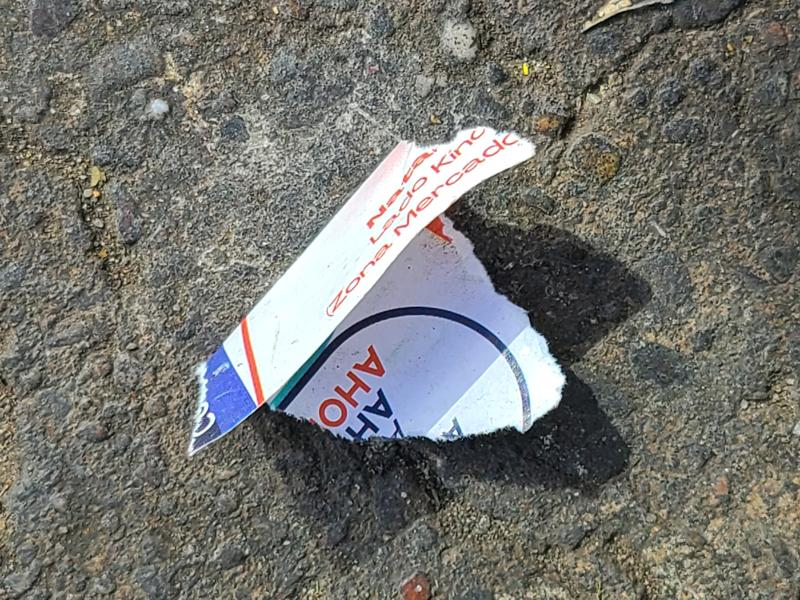papel: (191, 128, 567, 452)
